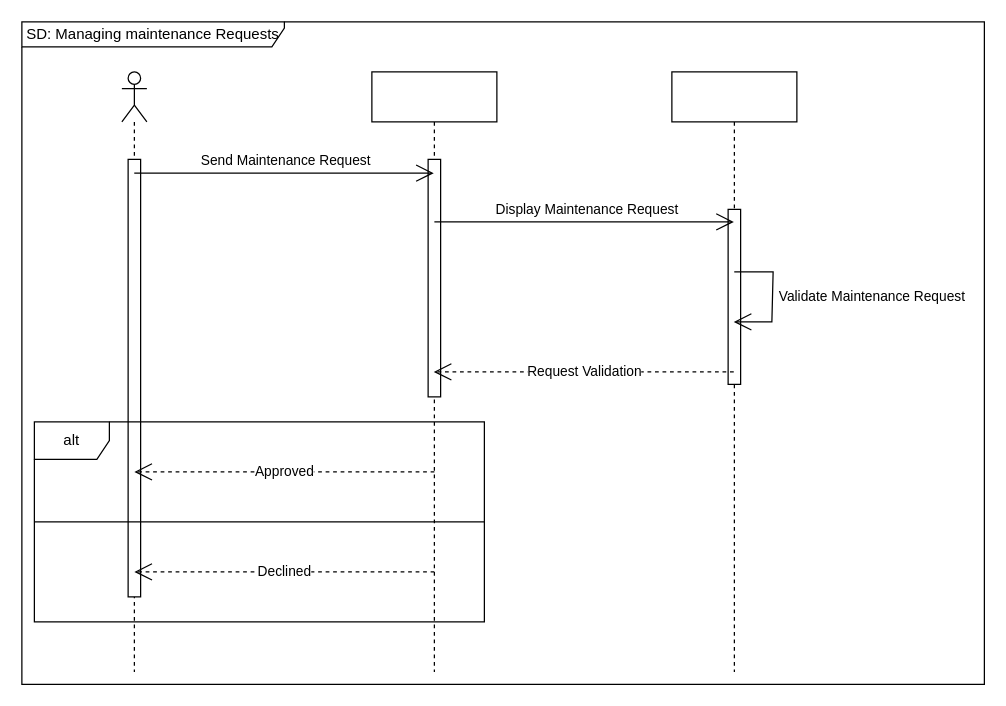
The diagram is 1006 pixels wide and 706 high, and some of its shapes have lost their labels. Each missing label, with the centre of its shape:
"Employee" goes at (x=434, y=371).
"Maintenance Department" goes at (x=734, y=371).
